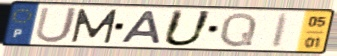A: (118, 9, 163, 46)
I: (269, 12, 293, 50)
M: (70, 7, 121, 44)
Q: (217, 11, 260, 48)
U: (160, 8, 216, 48), (33, 6, 81, 45)
